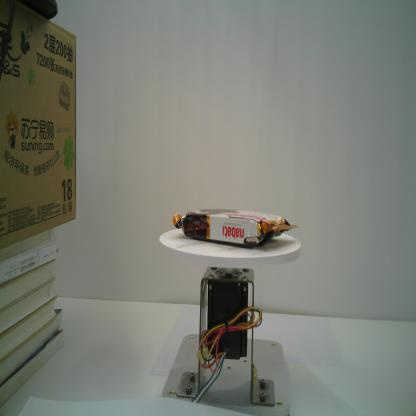Dessert: (171, 205, 299, 248)
